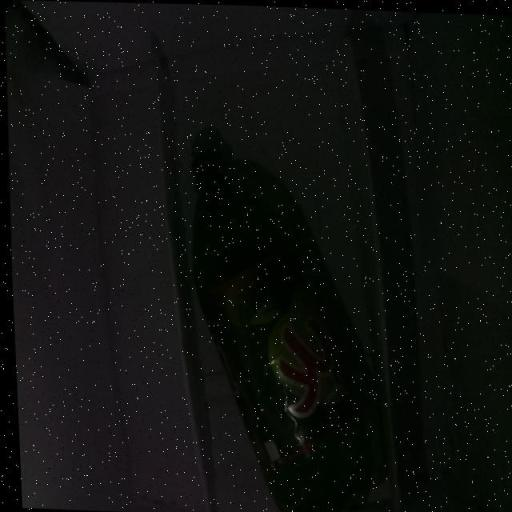plastic: (158, 106, 404, 512)
